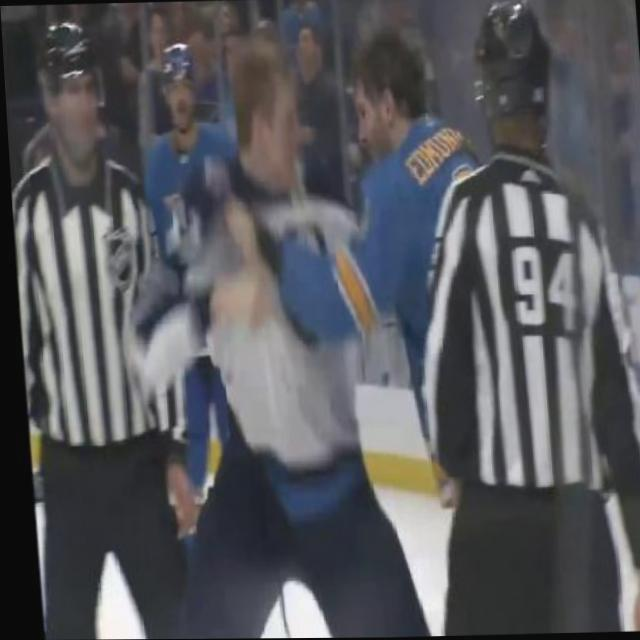fight: (116, 28, 482, 640)
